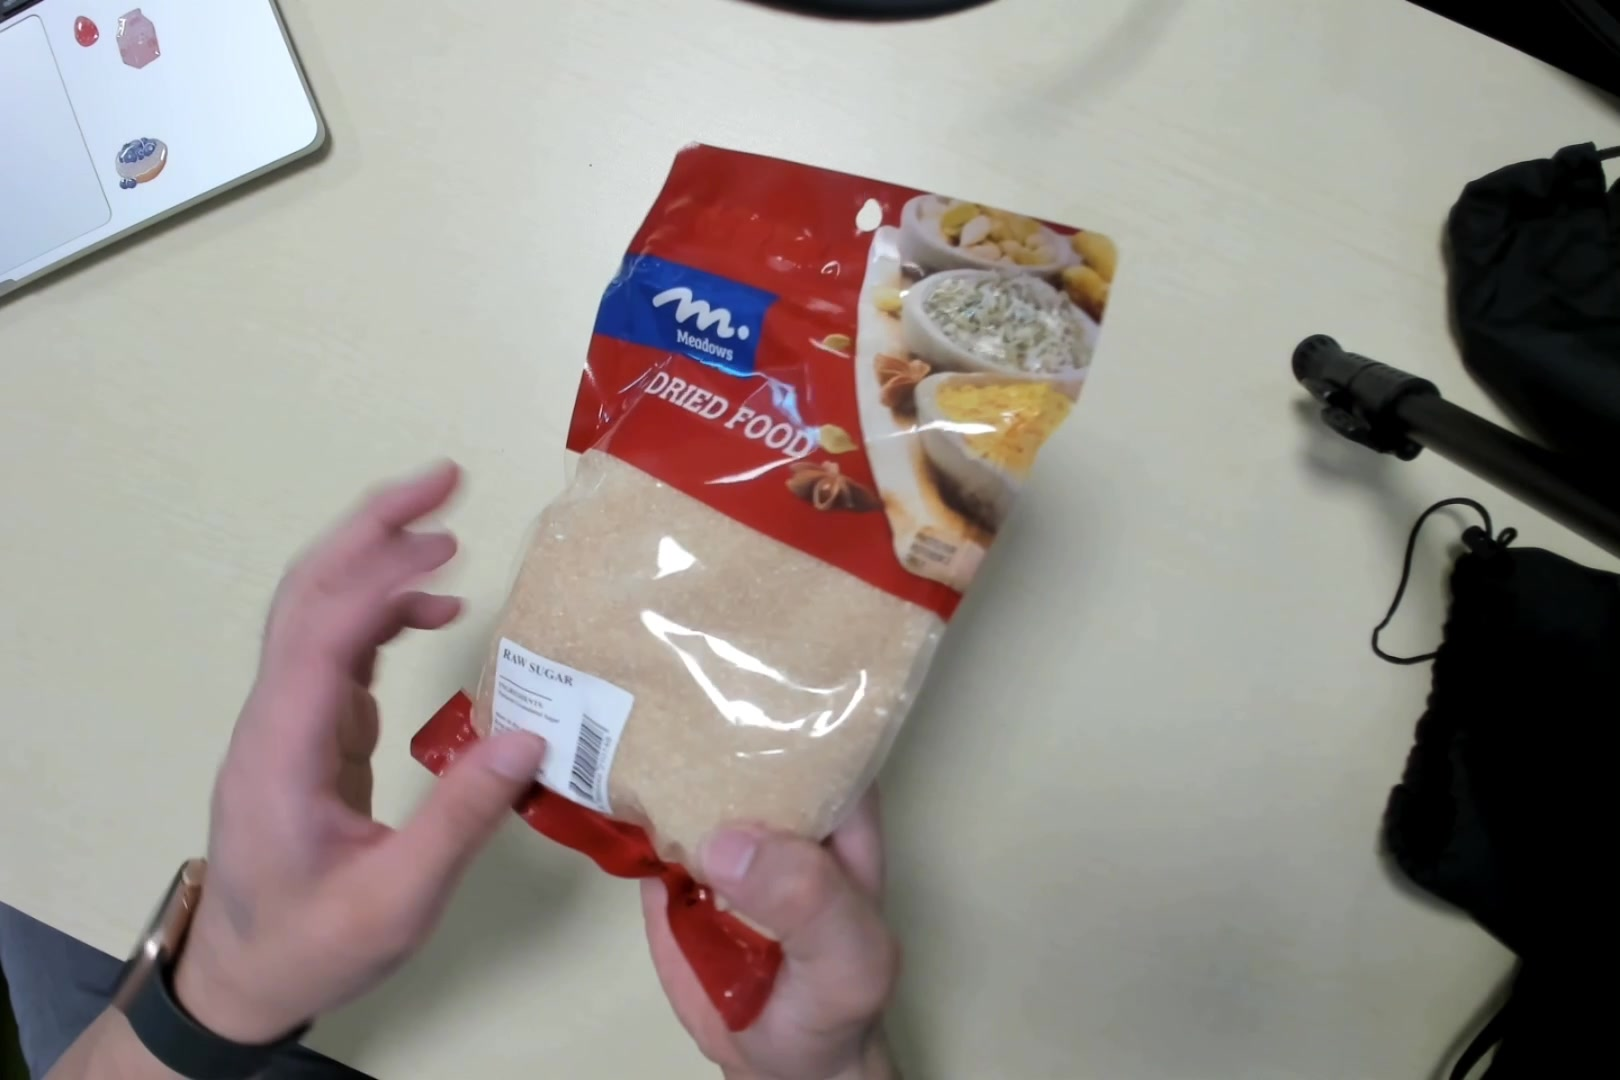Suger_200-299g_Halal_NonHealthy: (444, 145, 1100, 985)
